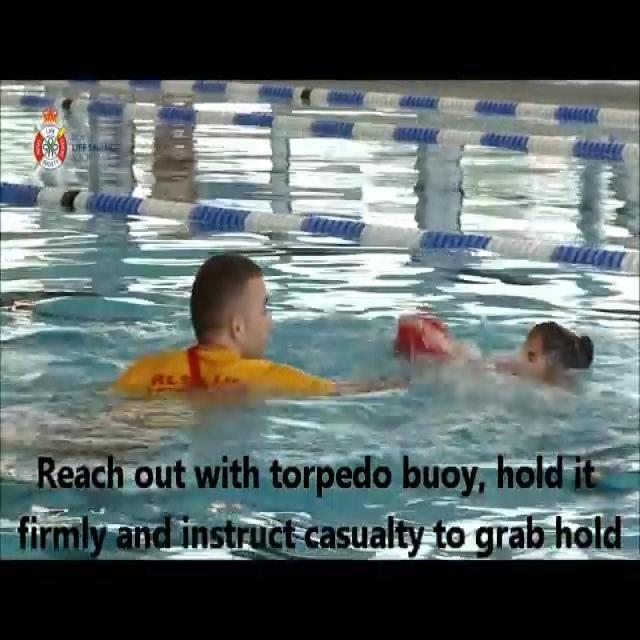Swimming: (116, 242, 382, 402), (432, 298, 602, 409)
